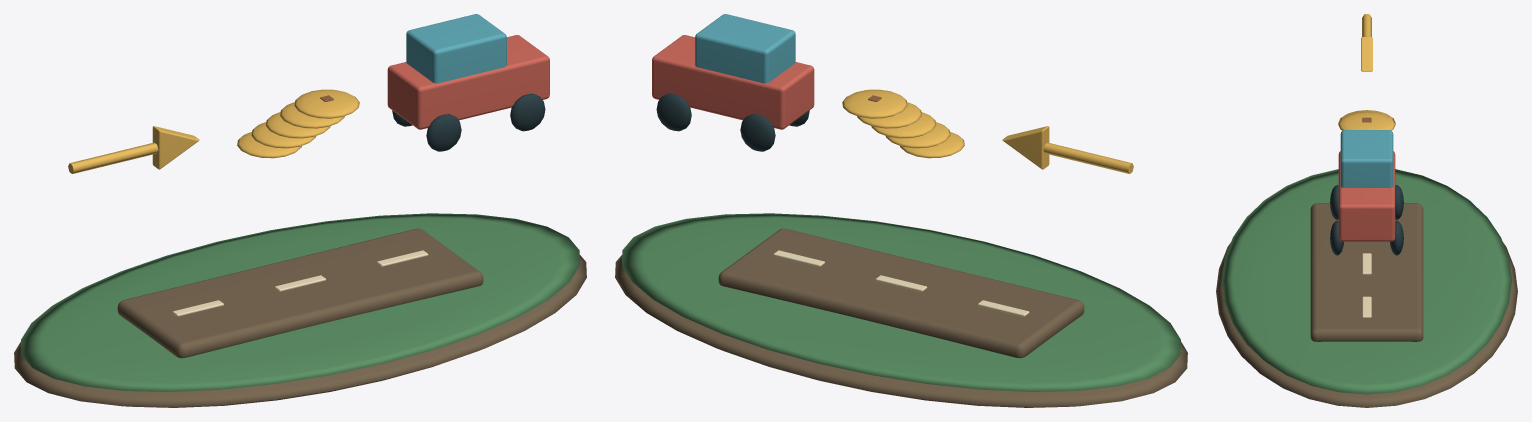
Rendered from complete-first-rented-exit-vehicle.glb.
3 renders of one model, left to right at view 1: azimuth 30°, elevation 25°; view 2: azimuth 150°, elevation 25°; view 3: azimuth 270°, elevation 25°, orthographic. The views are drawn at different scales.
Visible parts, largest first — view 1: complete-first-rented-exit-vehicle_surface_01, complete-first-rented-exit-vehicle_surface_00, complete-first-rented-exit-vehicle_surface_04, complete-first-rented-exit-vehicle_surface_02, complete-first-rented-exit-vehicle_surface_05, complete-first-rented-exit-vehicle_surface_06, complete-first-rented-exit-vehicle_surface_07; view 2: complete-first-rented-exit-vehicle_surface_01, complete-first-rented-exit-vehicle_surface_00, complete-first-rented-exit-vehicle_surface_04, complete-first-rented-exit-vehicle_surface_02, complete-first-rented-exit-vehicle_surface_05, complete-first-rented-exit-vehicle_surface_06, complete-first-rented-exit-vehicle_surface_07; view 3: complete-first-rented-exit-vehicle_surface_01, complete-first-rented-exit-vehicle_surface_00, complete-first-rented-exit-vehicle_surface_04, complete-first-rented-exit-vehicle_surface_05, complete-first-rented-exit-vehicle_surface_02, complete-first-rented-exit-vehicle_surface_06, complete-first-rented-exit-vehicle_surface_07.
Boxes of the visible parts, <box> form: complete-first-rented-exit-vehicle_surface_01: <box>21,213,579,391</box>; complete-first-rented-exit-vehicle_surface_00: <box>14,228,586,407</box>; complete-first-rented-exit-vehicle_surface_04: <box>387,35,549,129</box>; complete-first-rented-exit-vehicle_surface_02: <box>68,89,359,173</box>; complete-first-rented-exit-vehicle_surface_05: <box>406,14,506,83</box>; complete-first-rented-exit-vehicle_surface_06: <box>392,93,545,151</box>; complete-first-rented-exit-vehicle_surface_07: <box>172,250,428,316</box>; complete-first-rented-exit-vehicle_surface_01: <box>622,213,1180,391</box>; complete-first-rented-exit-vehicle_surface_00: <box>615,228,1187,407</box>; complete-first-rented-exit-vehicle_surface_04: <box>652,35,814,129</box>; complete-first-rented-exit-vehicle_surface_02: <box>842,89,1133,173</box>; complete-first-rented-exit-vehicle_surface_05: <box>695,14,795,83</box>; complete-first-rented-exit-vehicle_surface_06: <box>656,93,809,151</box>; complete-first-rented-exit-vehicle_surface_07: <box>773,250,1029,316</box>; complete-first-rented-exit-vehicle_surface_01: <box>1222,169,1511,394</box>; complete-first-rented-exit-vehicle_surface_00: <box>1216,203,1517,407</box>; complete-first-rented-exit-vehicle_surface_04: <box>1338,151,1395,241</box>; complete-first-rented-exit-vehicle_surface_05: <box>1340,130,1393,187</box>; complete-first-rented-exit-vehicle_surface_02: <box>1338,14,1395,130</box>; complete-first-rented-exit-vehicle_surface_06: <box>1330,185,1403,255</box>; complete-first-rented-exit-vehicle_surface_07: <box>1362,253,1371,318</box>.
Size of the model in its own units: 4.56 by 2.08 by 2.5.
